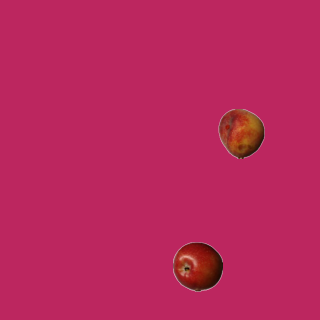Apple Braeburn: (172, 241, 222, 291)
Peach: (216, 108, 266, 158)
